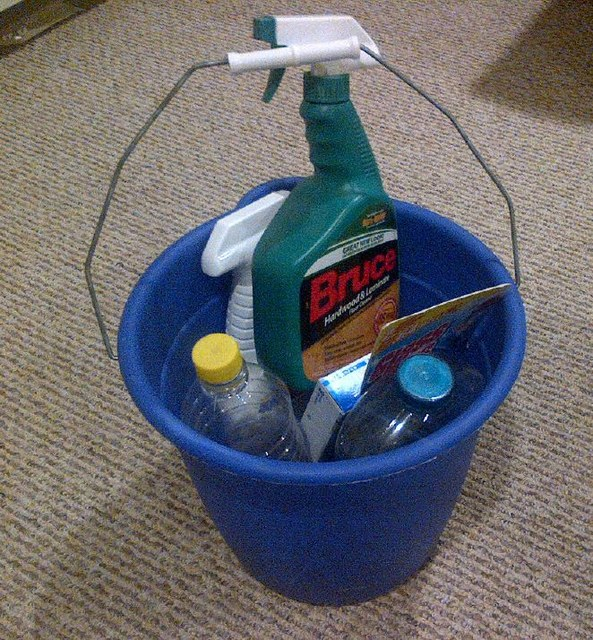Maxis Dishwash Bar: (30, 32, 563, 608)
